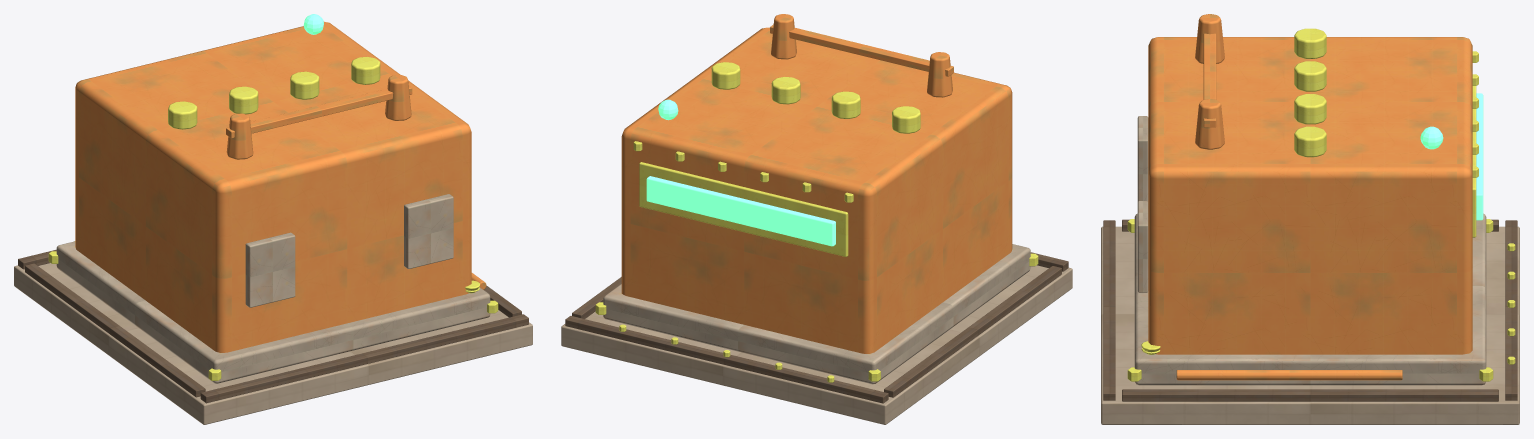
Rendered from ff-accumulator.glb.
3 views of the same model, side by side, from view 1: azimuth 30°, elevation 25°; view 2: azimuth 150°, elevation 25°; view 3: azimuth 270°, elevation 25° (orthographic). The views are drawn at different scales.
Parts seen in each view (by area): view 1: Bank, BankBase, Pad.008, PadLipN.008, PadPipe.008, Bolt.015; view 2: Bank, Pad.008, BankBase, Bolt.015, PadLipN.008, ChargeBar, PadPipe.008; view 3: Bank, Pad.008, BankBase, PadLipN.008, Bolt.015, PadPipe.008, ChargeBar, Lamp.009.
Part boxes in pixels (x1,y1,x2,y2): Bank: (75,21,471,352); BankBase: (56,194,490,383); Pad.008: (14,263,532,424); PadLipN.008: (18,249,528,403); PadPipe.008: (226,75,486,292); Bolt.015: (48,56,498,380); Bank: (621,27,1012,353); Pad.008: (561,265,1072,424); BankBase: (603,244,1030,384); Bolt.015: (595,62,1038,382); PadLipN.008: (565,252,1068,403); ChargeBar: (646,176,835,246); PadPipe.008: (770,14,953,97); Bank: (1148,37,1472,354); Pad.008: (1101,226,1519,424); BankBase: (1134,116,1486,385); PadLipN.008: (1103,219,1517,401); Bolt.015: (1127,28,1515,381); PadPipe.008: (1176,14,1402,380); ChargeBar: (1476,93,1483,220); Lamp.009: (1420,126,1443,149).
Bounding box in the file's own units: 2 × 1.46 × 2.
Materials: 9 (7 with a texture image).
